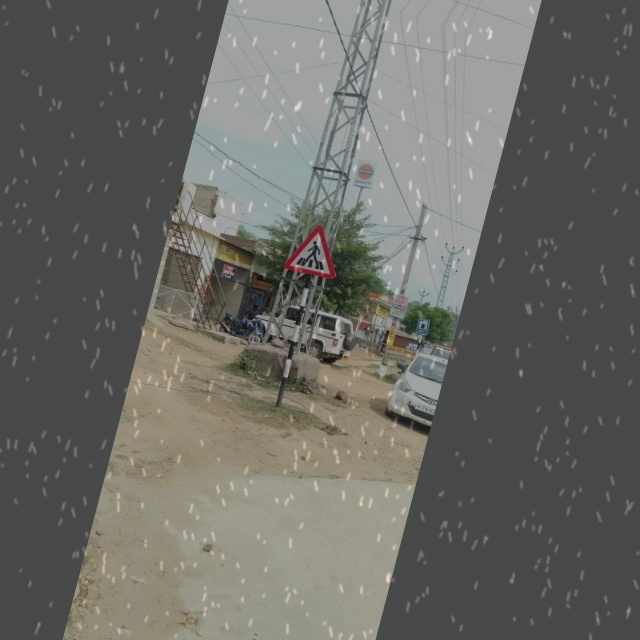Pedestrian_Crossing: (278, 216, 350, 287)
